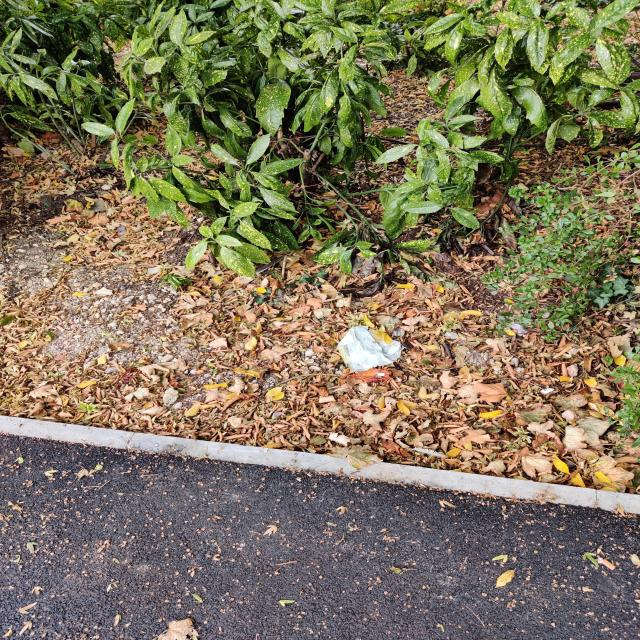litter: (318, 296, 390, 387)
